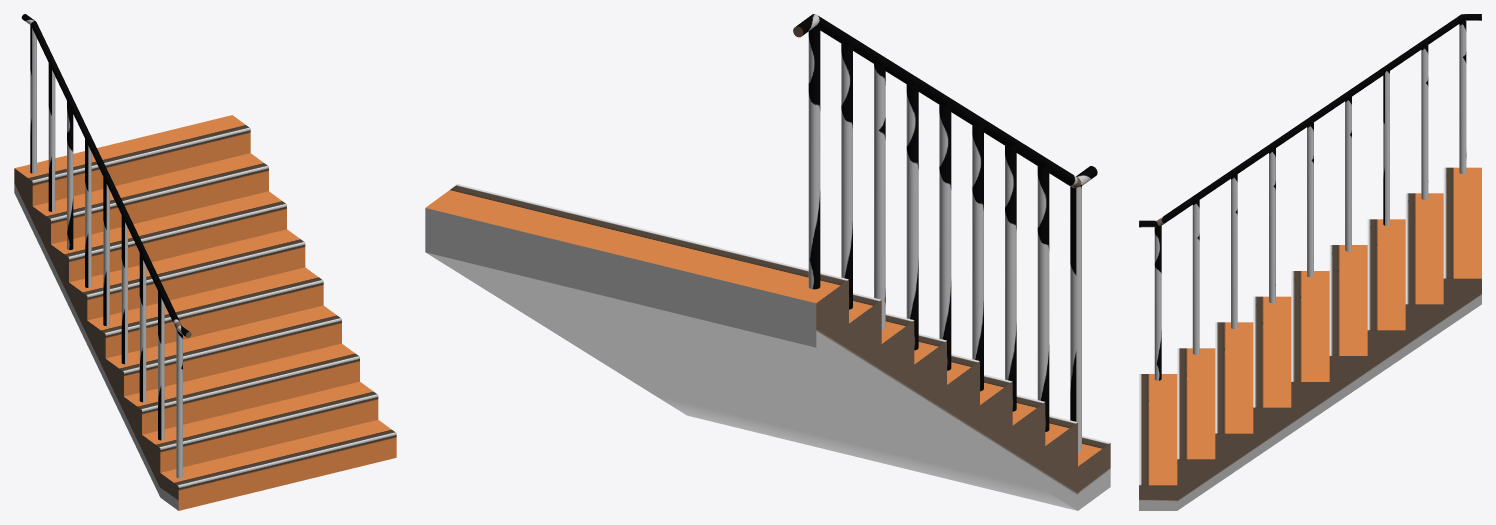
Rendered from Orange_Stairs_Model.fbx.
3 views of the same model, side by side, from view 1: azimuth 30°, elevation 25°; view 2: azimuth 150°, elevation 25°; view 3: azimuth 270°, elevation 25° (orthographic). The views are drawn at different scales.
Visible parts, largest first — view 1: Box001; view 2: Box001; view 3: Box001.
Boxes of the visible parts, bbox=[...] form: Box001: bbox=[14, 14, 396, 510]; Box001: bbox=[425, 14, 1110, 510]; Box001: bbox=[1139, 14, 1481, 510].
Size of the model in its own units: 230 by 377 by 300.
